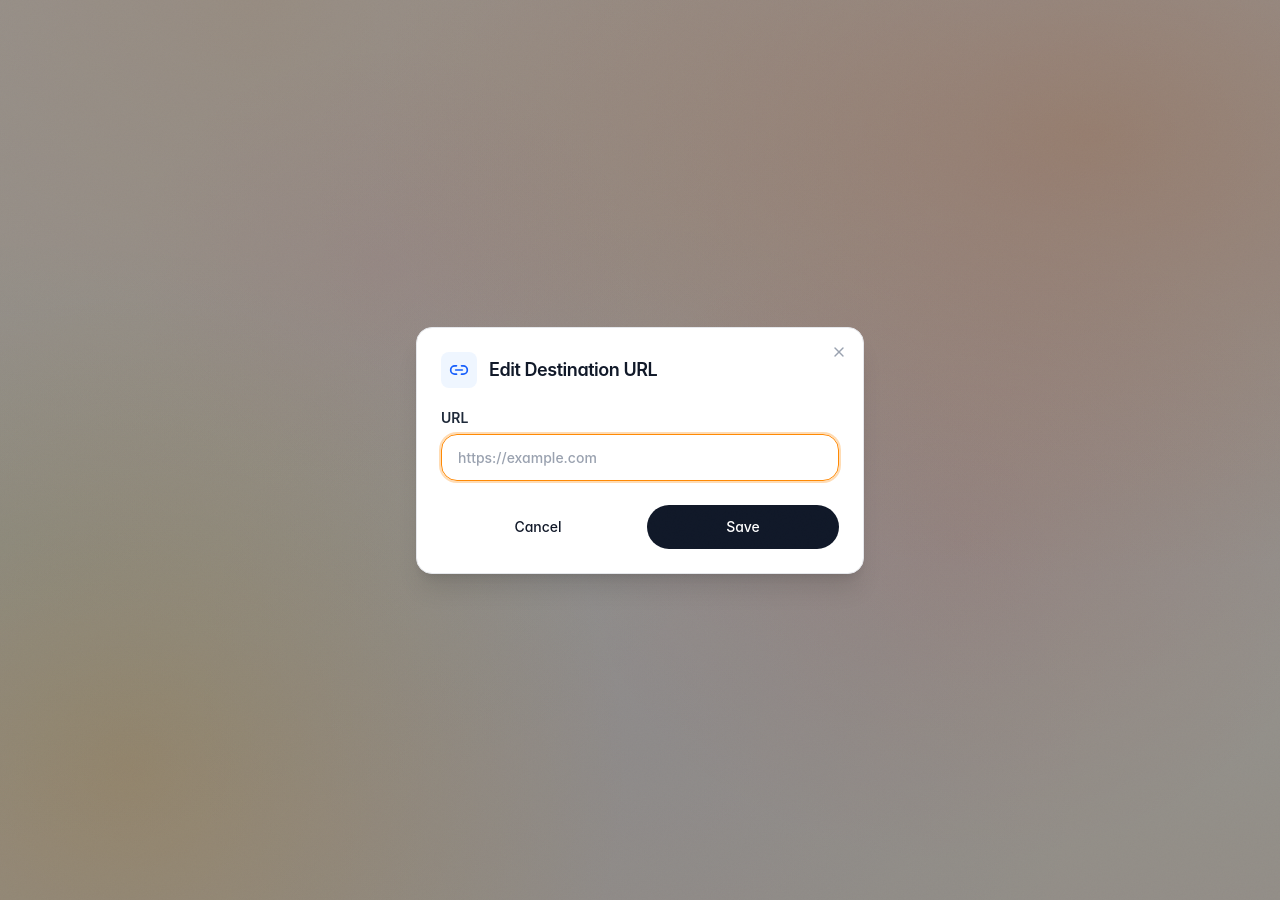
Test case: EditUrlModal › interactions › shows error for non-http URL on url type
Type "ftp://example.com" into the field labelled "URL" at (640,457), box left=441, top=434, right=839, bottom=480
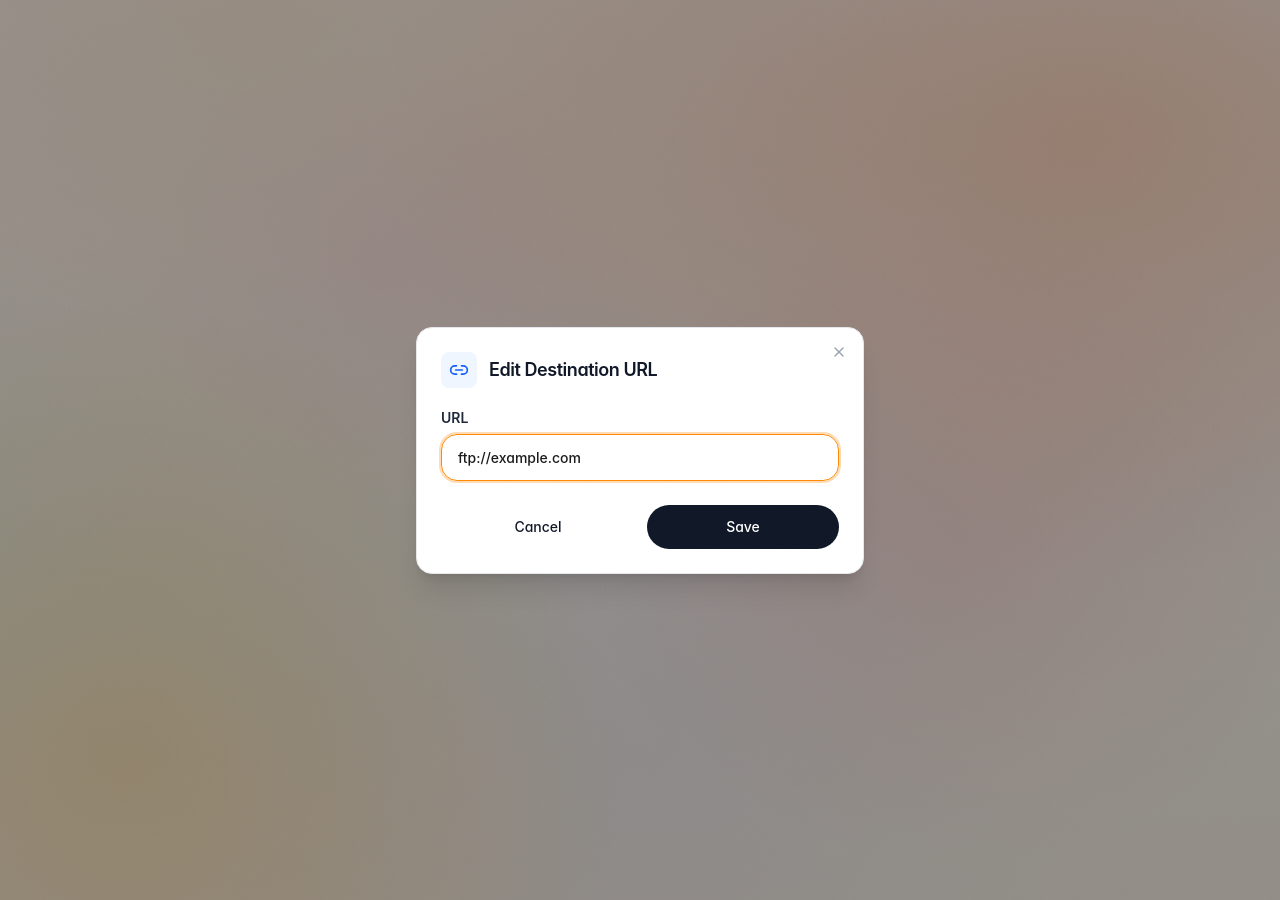
Click the button "Save" at (743,526), box left=647, top=504, right=839, bottom=548
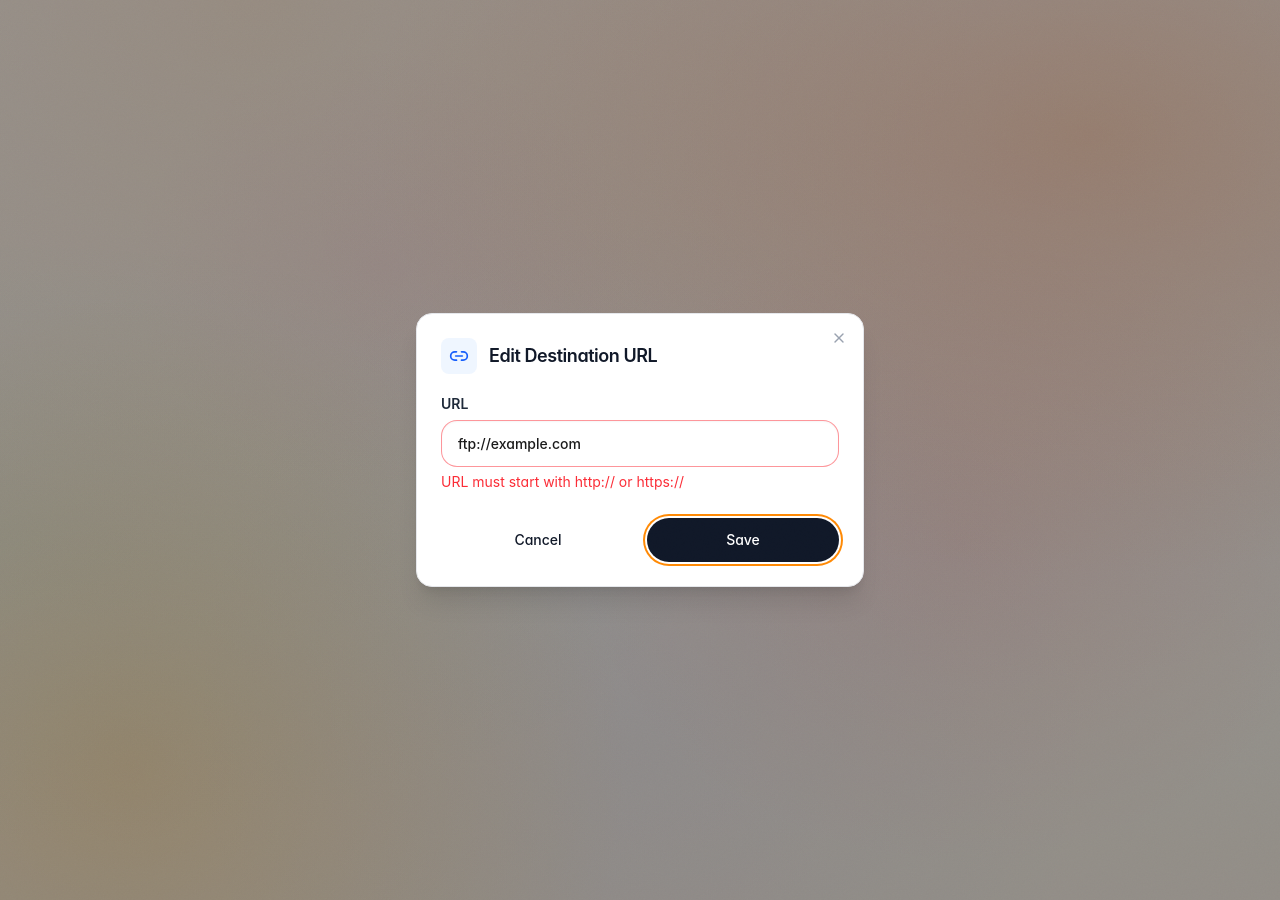
Now the text "URL must start with http:// or https://" is shown, box left=441, top=473, right=684, bottom=490
